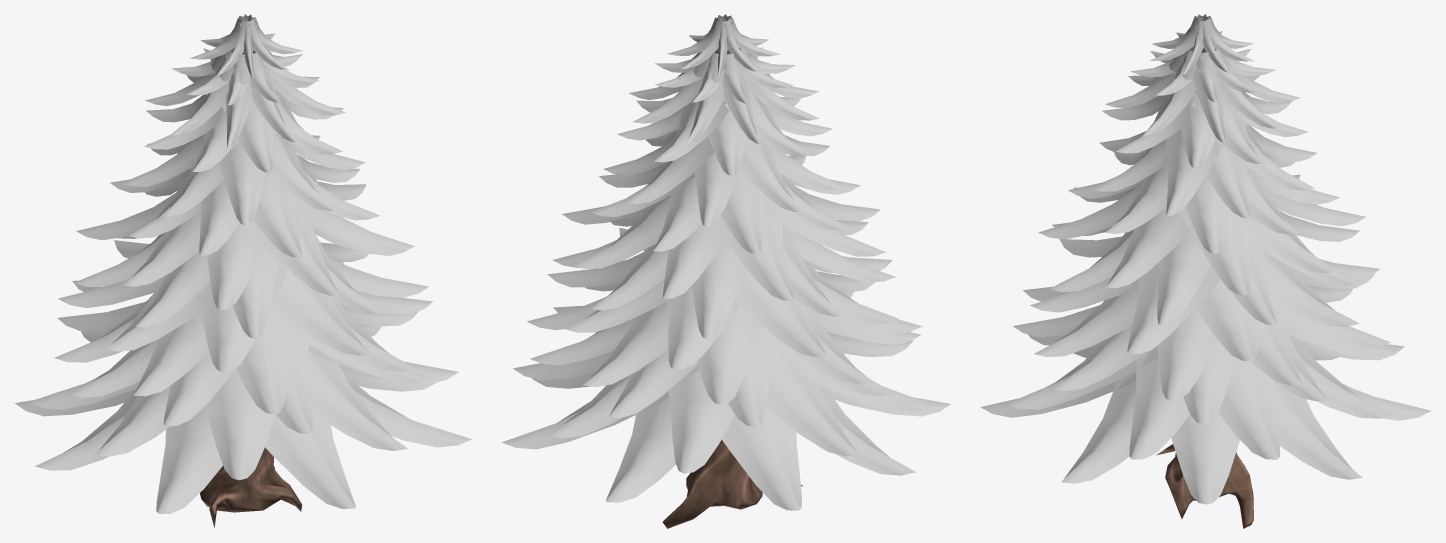
The model's file is SapinBeau.fbx.
3 renders of one model, left to right at view 1: azimuth 30°, elevation 25°; view 2: azimuth 150°, elevation 25°; view 3: azimuth 270°, elevation 25°, orthographic. The views are drawn at different scales.
Visible parts, largest first — view 1: group5_pPlane16; view 2: group5_pPlane16; view 3: group5_pPlane16.
Boxes of the visible parts, bbox=[...] form: group5_pPlane16: bbox=[14, 14, 471, 528]; group5_pPlane16: bbox=[502, 14, 950, 528]; group5_pPlane16: bbox=[980, 14, 1431, 528].
Bounding box in the file's own units: 610 × 735 × 610.
